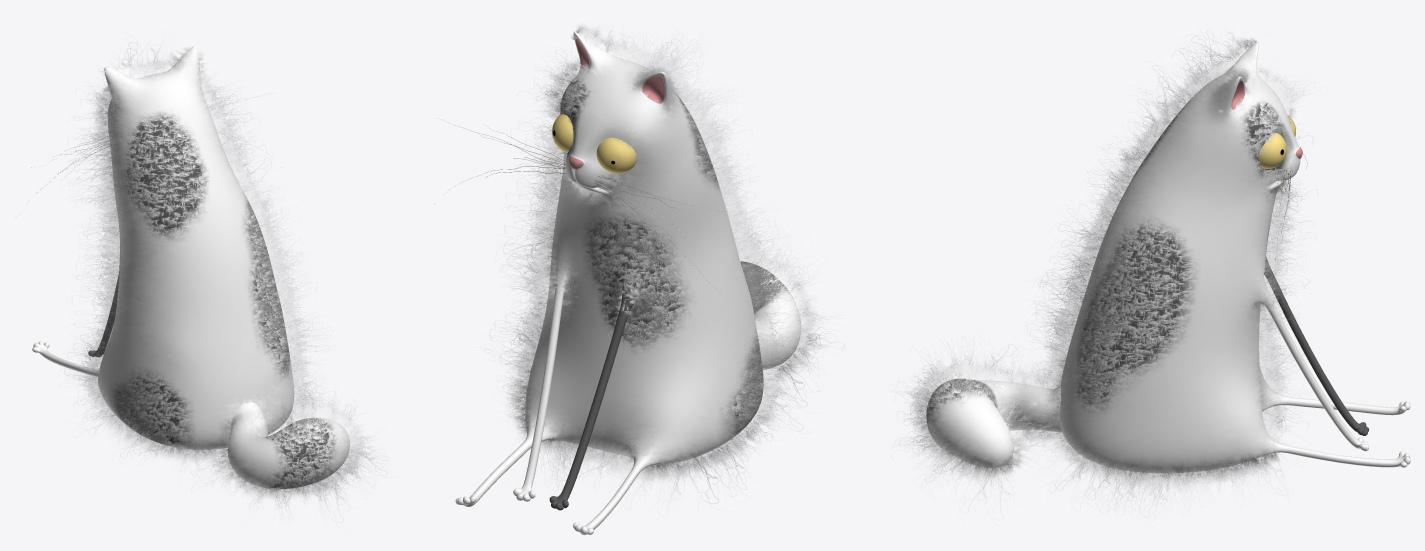
File: das_kat.glb
The picture shows the model from 3 angles, left to right: view 1: azimuth 30°, elevation 25°; view 2: azimuth 150°, elevation 25°; view 3: azimuth 270°, elevation 25°; orthographic projection. The views are drawn at different scales.
Size of the model in its own units: 0.7567 by 1.18 by 1.2.
6 materials, 2 textured.
